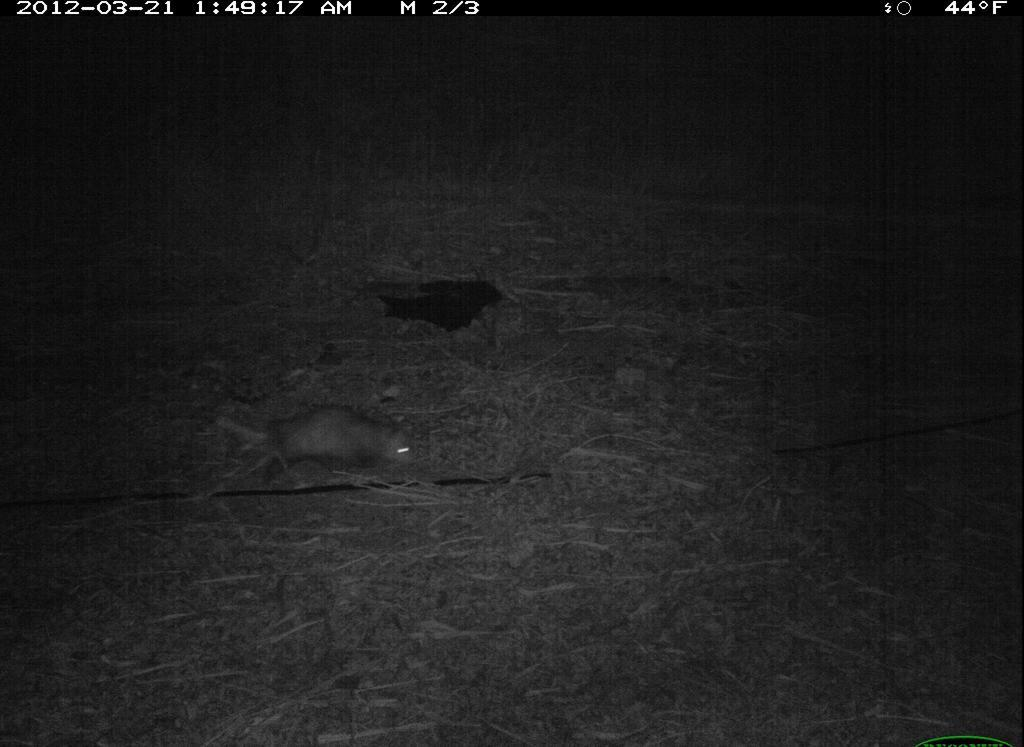opossum: (218, 385, 424, 500)
